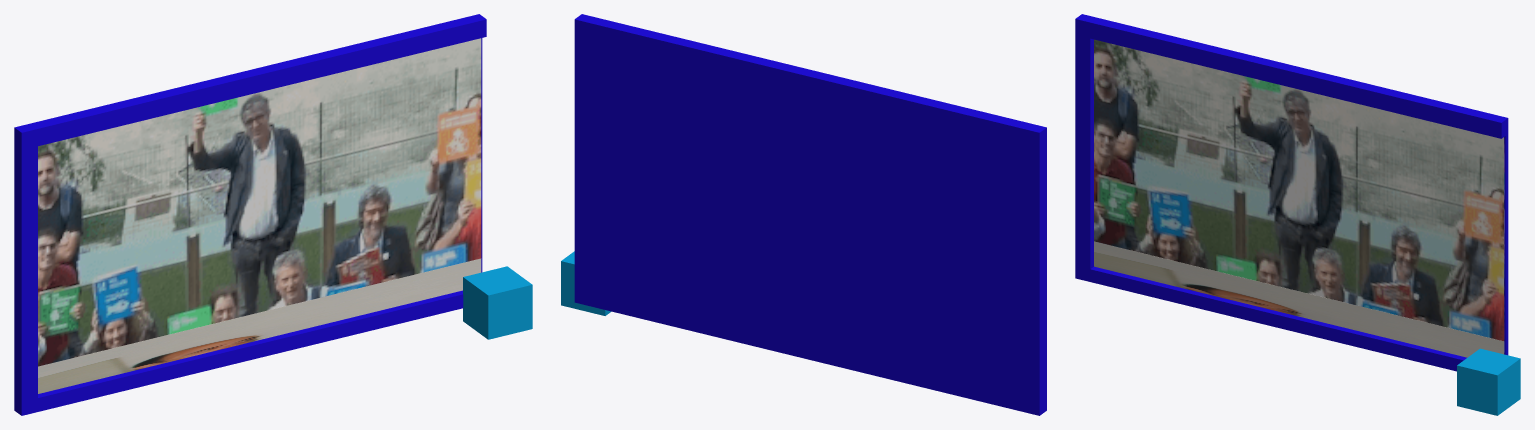
The picture shows the model from 3 angles, left to right: view 1: azimuth 30°, elevation 25°; view 2: azimuth 150°, elevation 25°; view 3: azimuth 330°, elevation 25°; orthographic projection. The views are drawn at different scales.
Visible parts, largest first — view 1: Cube, Cube.002, Cube.001, Cube.003; view 2: Cube.002, Cube.003; view 3: Cube, Cube.002, Cube.001, Cube.003.
Boxes of the visible parts, box(x1,y1,x2,y2) form: Cube: box(38, 38, 481, 366); Cube.002: box(14, 14, 486, 415); Cube.001: box(38, 258, 481, 393); Cube.003: box(463, 266, 532, 339); Cube.002: box(574, 14, 1046, 415); Cube.003: box(561, 251, 611, 315); Cube: box(1094, 39, 1504, 341); Cube.002: box(1075, 14, 1508, 371); Cube.001: box(1094, 241, 1504, 357); Cube.003: box(1457, 348, 1520, 415).
Size of the model in its own units: 6.36 by 3.71 by 0.7359.
4 materials, 2 textured.
